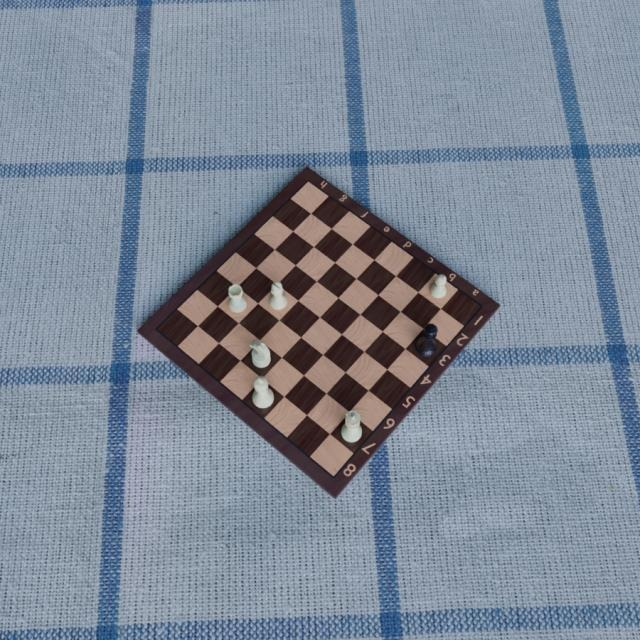black-king: (413, 322, 438, 358)
white-bishop: (269, 281, 287, 311)
white-king: (252, 375, 276, 409)
white-knight: (247, 339, 272, 369)
white-pawn: (430, 273, 448, 299)
white-queen: (339, 409, 362, 442)
white-rook: (228, 281, 247, 314)
